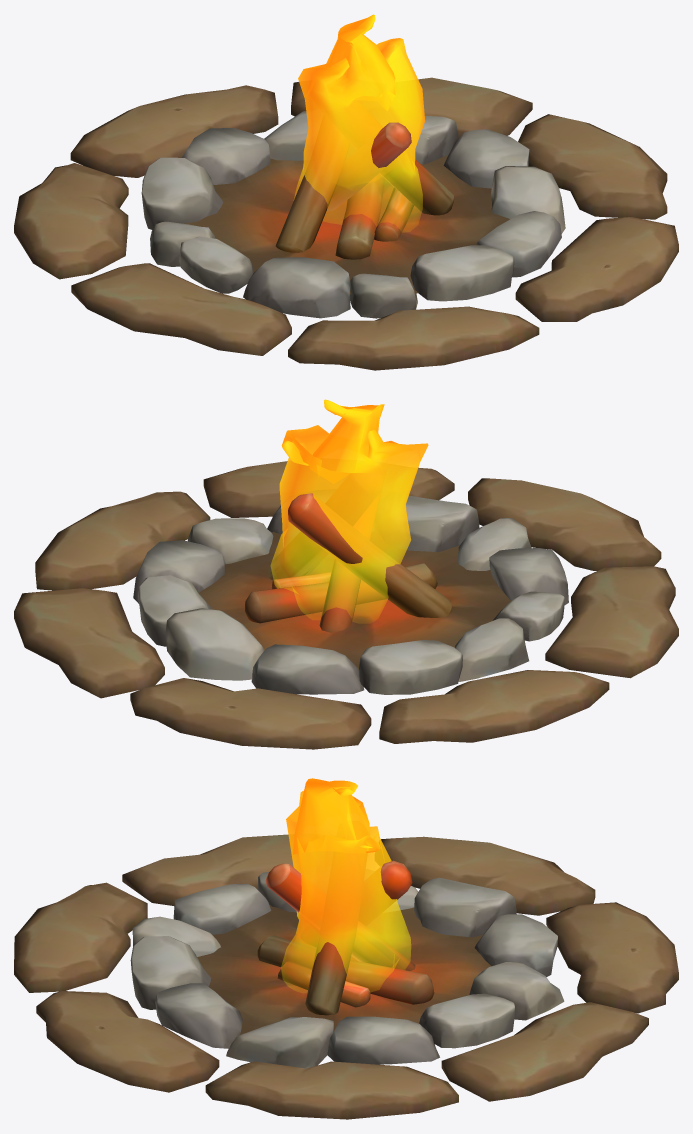
File: campfire-transformed.glb
3 renders of one model, top to bottom at view 1: azimuth 30°, elevation 25°; view 2: azimuth 150°, elevation 25°; view 3: azimuth 270°, elevation 25°, orthographic.
Visible parts, largest first — view 1: camp, fire; view 2: camp, fire; view 3: camp, fire.
Part boxes in pixels (x1,y1,x2,y2): camp: (14,77,678,370); fire: (294,14,425,231); camp: (14,461,678,749); fire: (270,399,428,622); camp: (14,834,678,1119); fire: (281,778,410,992).
Size of the model in its own units: 2.24 by 0.8199 by 2.27.
Materials: 2 (2 with a texture image).
